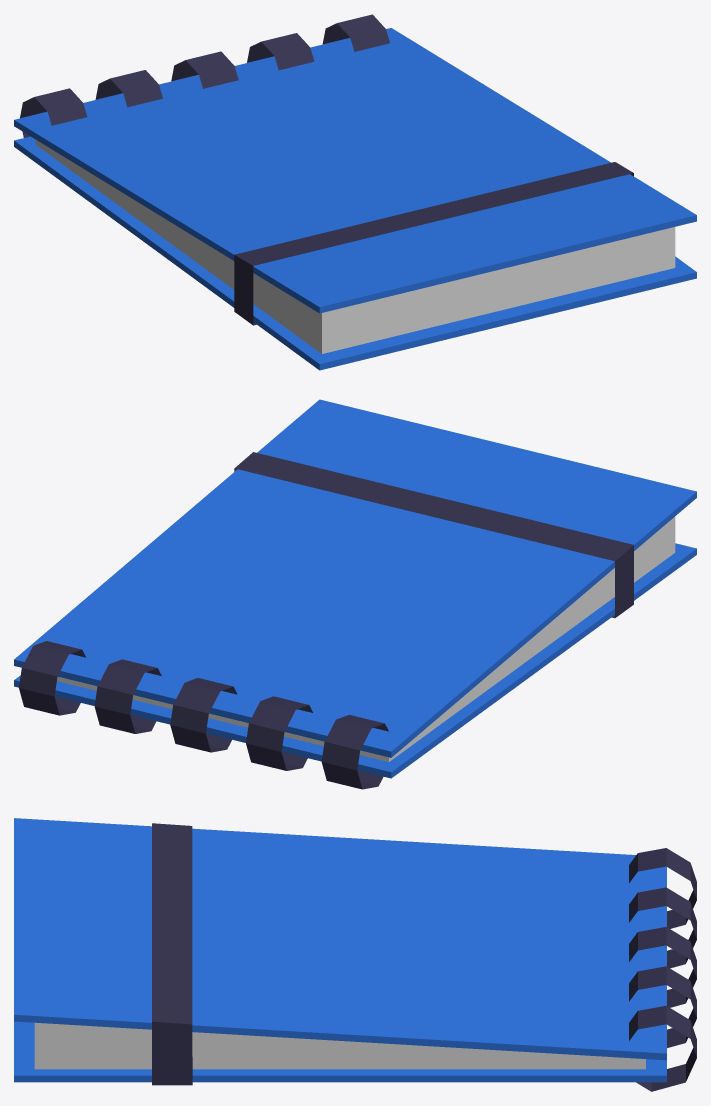
File: notebook.fbx
The picture shows the model from 3 angles, top to bottom: view 1: azimuth 30°, elevation 25°; view 2: azimuth 150°, elevation 25°; view 3: azimuth 270°, elevation 25°; orthographic projection. The views are drawn at different scales.
Visible parts, largest first — view 1: Circle; view 2: Circle; view 3: Circle.
Part boxes in pixels (x1,y1,x2,y2): Circle: (14,14,696,370); Circle: (14,399,696,789); Circle: (14,818,696,1091).
Size of the model in its own units: 53.91 by 11.03 by 78.41.
